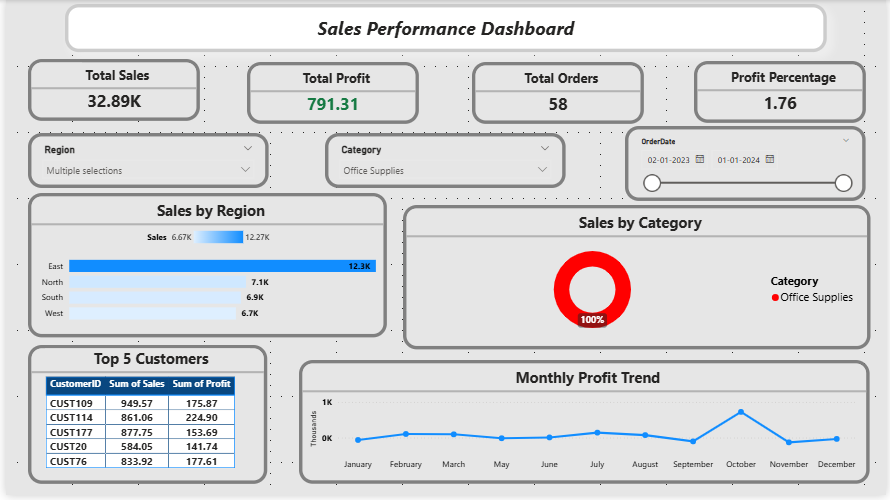

What the dashboard file says about the page in this screenshot:
{"tool":"powerbi","page":{"name":"Page 1","canvas":[1280,720],"ordinal":0},"visuals":[{"type":"textbox","box":[86,6,1108,70],"z":0},{"type":"card","title":"Total Sales","fields":{"Values":["Sheet.Total_Sales"]},"box":[32,86,250,90],"z":1000},{"type":"card","title":"Total Profit","fields":{"Values":["Sheet.Total_Profit"]},"box":[350,90.6,250,89.8],"z":2000},{"type":"card","title":"Total Orders","fields":{"Values":["Sheet.Total_Orders"]},"box":[678,90,250,90],"z":3000},{"type":"card","title":"Profit Percentage","fields":{"Values":["Sum(Sheet.Profit_Percentage)"]},"box":[1000,88.3,250,90],"z":4000},{"type":"barChart","title":"Sales by Region","fields":{"Y":["Sum(Sheet.Sales)"],"Category":["Sheet.Region"]},"box":[32,280,522,210],"z":5000},{"type":"donutChart","title":"Sales by Category","fields":{"Y":["Sum(Sheet.Sales)"],"Category":["Sheet.Category"]},"box":[577.1,298.6,680,210],"z":6000},{"type":"tableEx","title":"Top 5 Customers","fields":{"Values":["Sheet.CustomerID","Sum(Sheet.Sales)","Sum(Sheet.Profit)"]},"box":[32,502,348,202],"z":7000},{"type":"lineChart","title":"Monthly Profit Trend","fields":{"Y":["Sum(Sheet.Profit)"],"Category":["Sheet.OrderDate.Variation.Date Hierarchy.Month"]},"box":[426,524,830,180],"z":8000},{"type":"slicer","fields":{"Values":["Sheet.Region"]},"box":[32,194,350,80],"z":9000},{"type":"slicer","fields":{"Values":["Sheet.Category"]},"box":[464,194,350,80],"z":10000},{"type":"slicer","fields":{"Values":["Sheet.OrderDate"]},"box":[900,182.9,350,108.6],"z":11000}]}

Visuals, with their boxes in screenshot pixels (x1, y1, x2, y2), scaled from the page's 1280x720 canvas onto the 890x500 screenshot:
textbox: [60, 4, 830, 53]
"Total Sales" card: [22, 60, 196, 122]
"Total Profit" card: [243, 63, 417, 125]
"Total Orders" card: [471, 62, 645, 125]
"Profit Percentage" card: [695, 61, 869, 124]
"Sales by Region" barChart: [22, 194, 385, 340]
"Sales by Category" donutChart: [401, 207, 874, 353]
"Top 5 Customers" tableEx: [22, 349, 264, 489]
"Monthly Profit Trend" lineChart: [296, 364, 873, 489]
slicer - Sheet.Region: [22, 135, 266, 190]
slicer - Sheet.Category: [323, 135, 566, 190]
slicer - Sheet.OrderDate: [626, 127, 869, 202]
